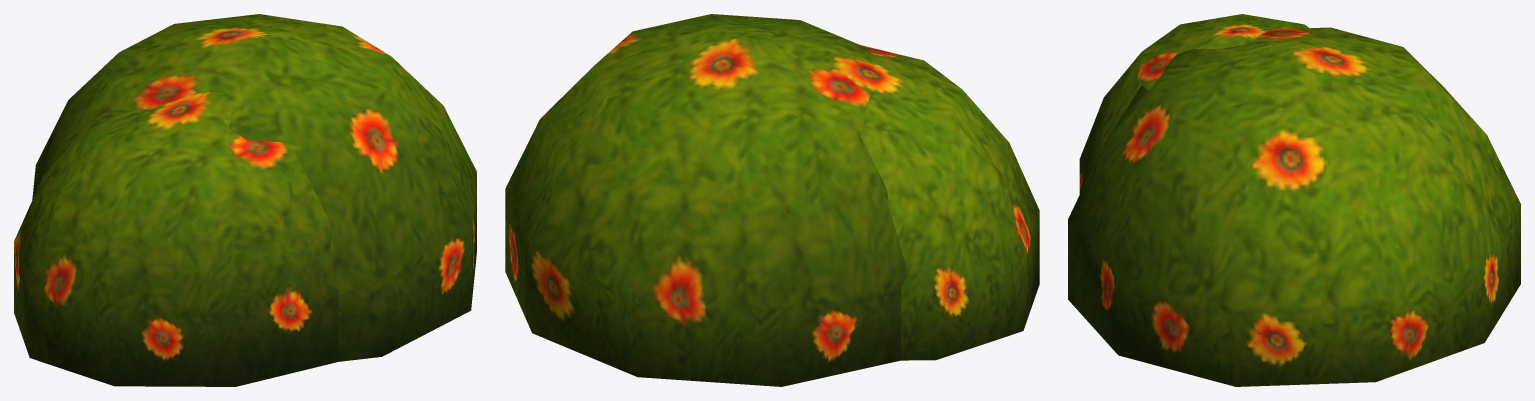
File: Bush_1a_atlas.fbx
3 views of the same model, side by side, from view 1: azimuth 30°, elevation 25°; view 2: azimuth 150°, elevation 25°; view 3: azimuth 270°, elevation 25° (orthographic). The views are drawn at different scales.
Parts seen in each view (by area): view 1: polySurface138; view 2: polySurface138; view 3: polySurface138.
Part boxes in pixels (x1=…): polySurface138: x1=14, y1=14, x2=476, y2=386; polySurface138: x1=505, y1=14, x2=1039, y2=386; polySurface138: x1=1068, y1=14, x2=1520, y2=386.
Size of the model in its own units: 2.01 by 1.04 by 1.77.
